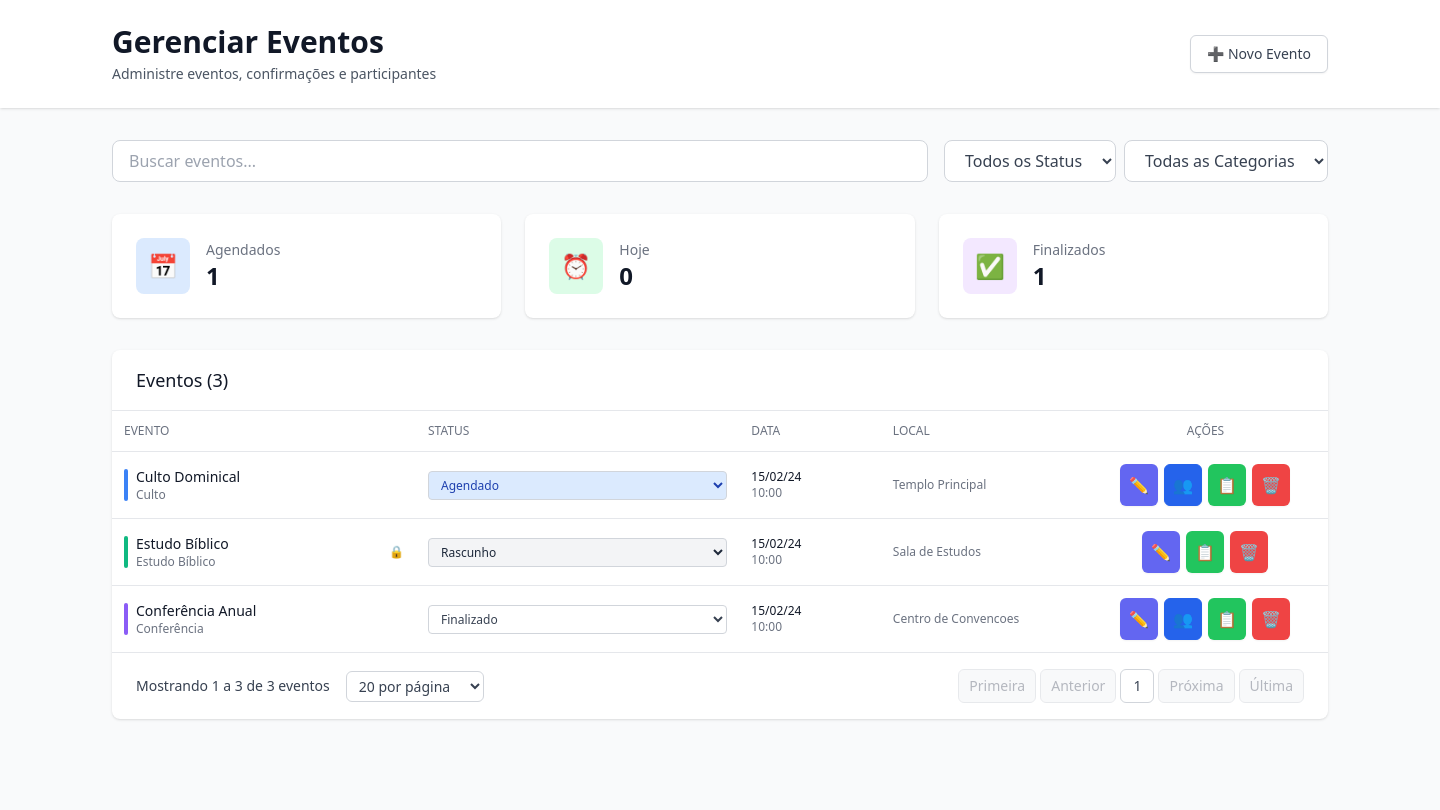
Scenario: AdminEventsManagementPage › CRUD Operations › Edit Event › should open edit modal when clicking edit button
The image size is (1440, 810).
Expected: the text "Culto Dominical" is shown, [136,467,240,486]
Click the button titled "Editar evento" in the row of "Culto Dominical" at (1140, 485), box [1120,464,1158,506]
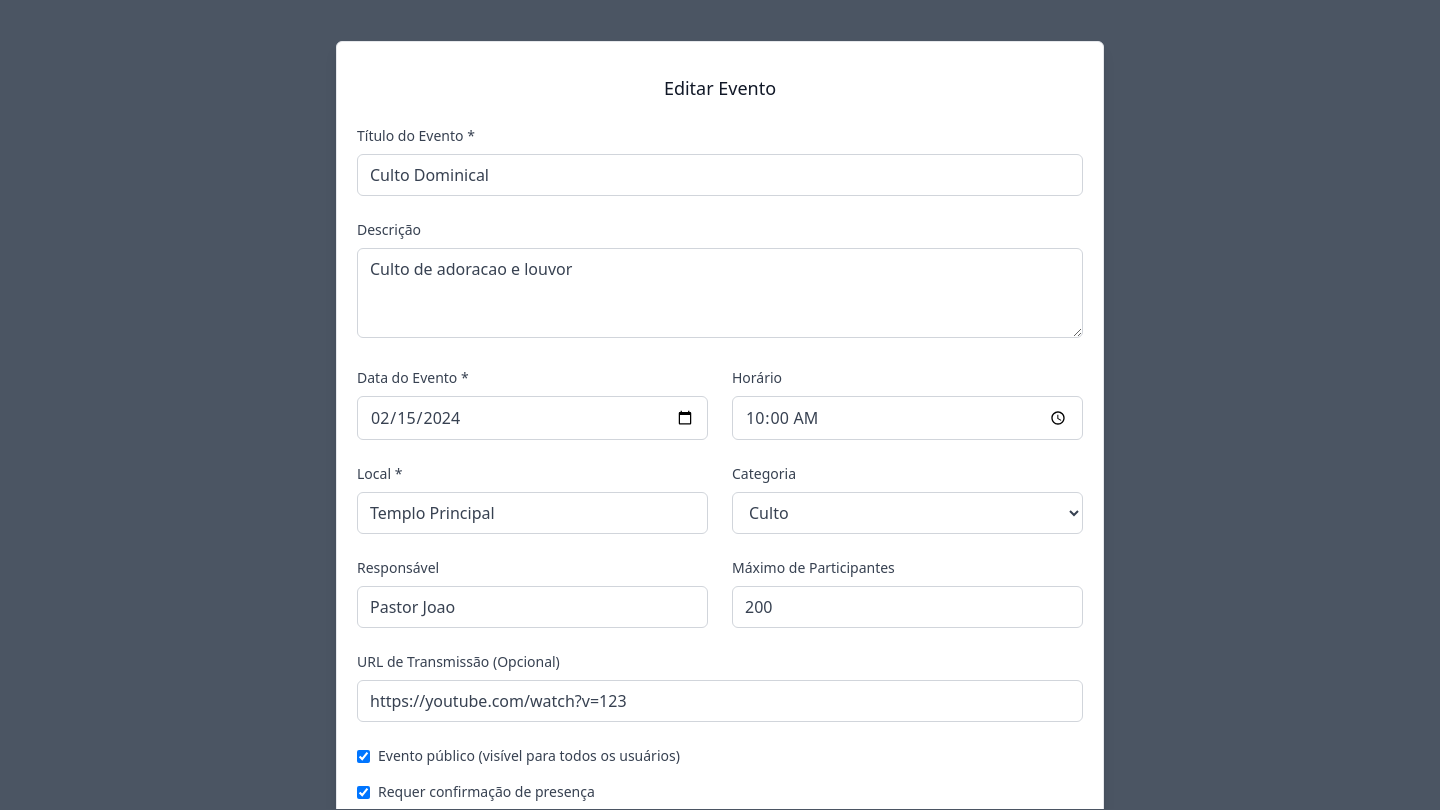
Expected: the heading "Editar Evento" is shown, [664,76,776,100]
